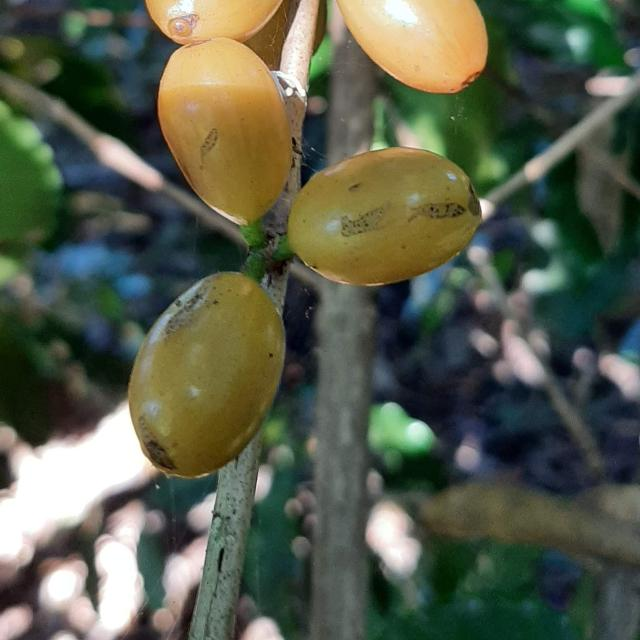Ripe: (128, 272, 285, 478), (287, 147, 482, 286), (157, 37, 292, 225), (337, 0, 489, 93), (145, 0, 282, 44)
